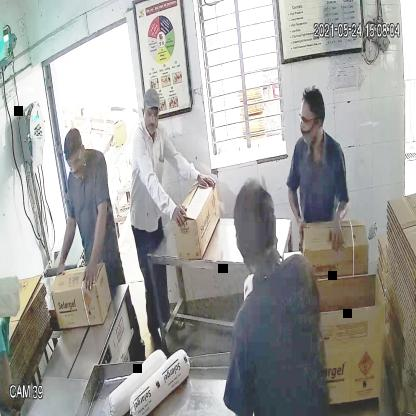goggles: (298, 110, 321, 127), (65, 154, 85, 172)
no_goggles: (140, 104, 161, 122)
